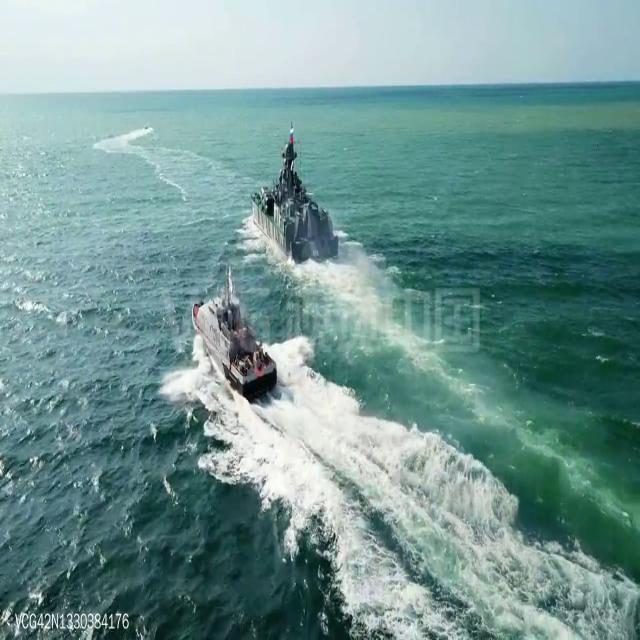houseboat: (250, 127, 338, 263), (190, 276, 278, 392), (144, 122, 150, 130)
